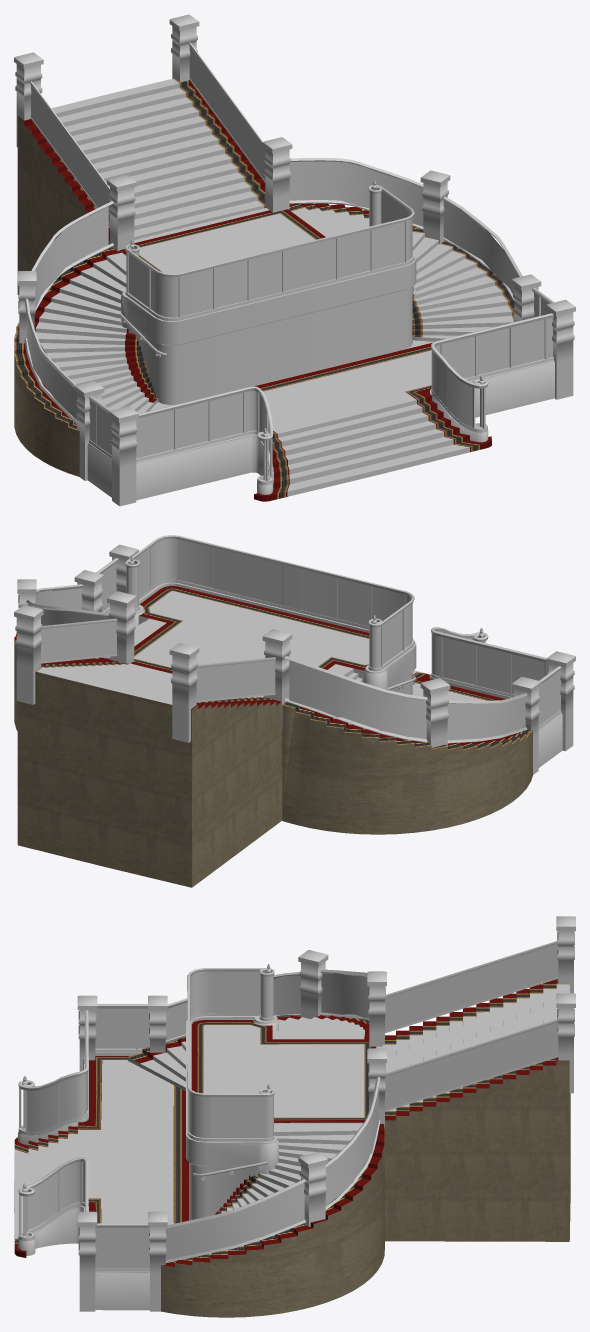
Rendered from Stairs_1.FBX.
3 views of the same model, one above another, from view 1: azimuth 30°, elevation 25°; view 2: azimuth 150°, elevation 25°; view 3: azimuth 270°, elevation 25° (orthographic).
Visible parts, largest first — view 1: Stairs_1; view 2: Stairs_1; view 3: Stairs_1.
Part boxes in pixels (left/top/right/bottom): Stairs_1: left=14, top=14, right=575, bottom=506; Stairs_1: left=14, top=535, right=575, bottom=887; Stairs_1: left=14, top=916, right=575, bottom=1317.
Bounding box in the file's own units: 13.97 × 6.62 × 14.02.
